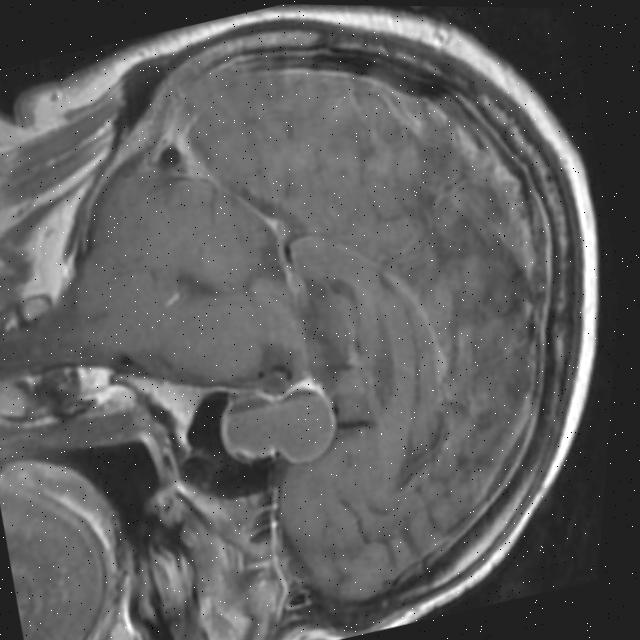Pituitary: (209, 372, 347, 481)
